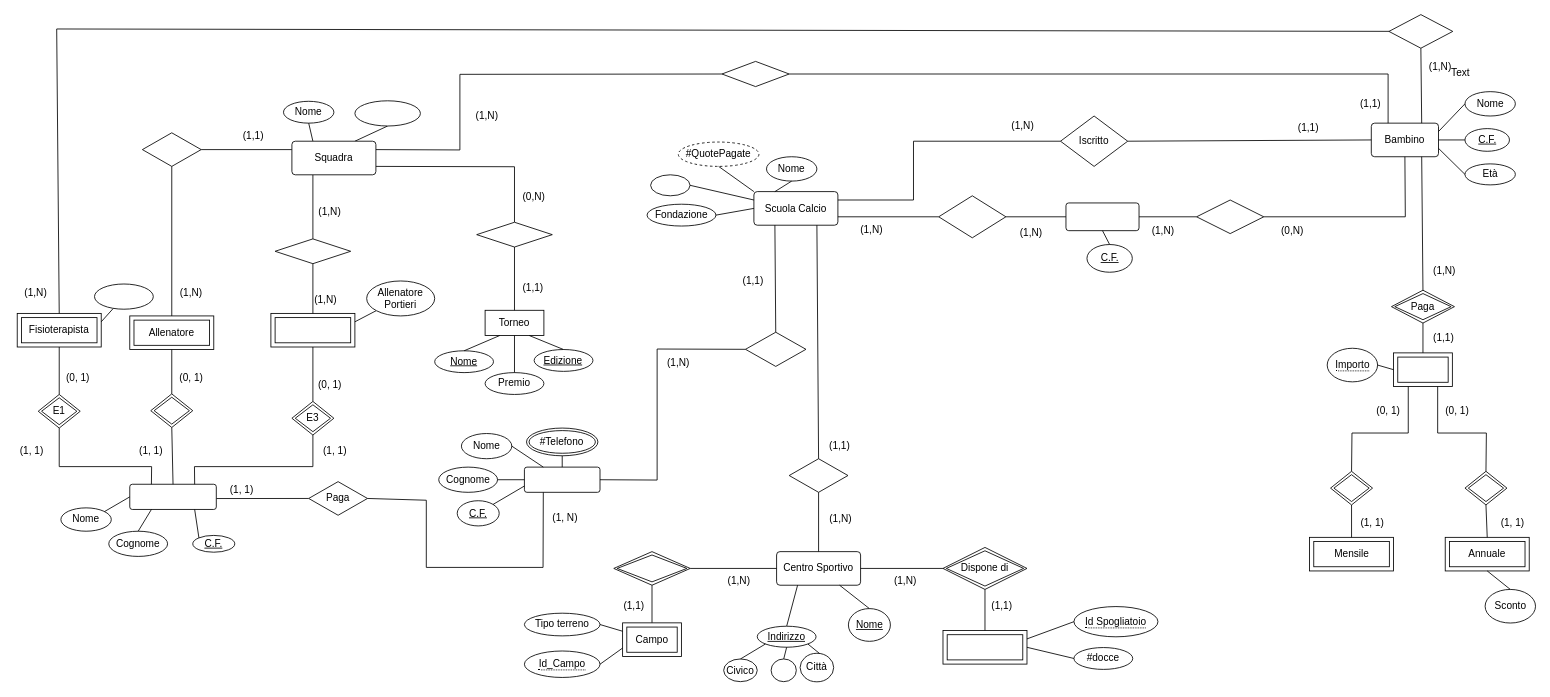
The diagram is 1550 pixels wide and 697 high, and some of its shapes have lost their labels. The shapes that lost their labels are listed below. From the top down, each one's centre as x and y in pixels, then its label:
the point at 1420,31: Cura
the point at 755,74: Gioca
the point at 387,113: Età bambini
the point at 171,149: Allena
the point at 670,185: P. IVA
the point at 514,234: Vince
the point at 972,216: Collabora
the point at 1102,216: Medico Sportivo
the point at 1230,216: Visita
the point at 312,251: Prepara
the point at 123,296: Specialità
the point at 312,330: Preparatore Atletico
the point at 775,348: Possiede
the point at 1422,369: Retta
the point at 171,410: E2
the point at 562,479: Presidente
the point at 818,475: Utilizza
the point at 1351,487: E4
the point at 1485,487: E5
the point at 172,496: Dipendenti
the point at 651,568: Composto
the point at 984,647: Spogliatoio
the point at 783,670: Via
